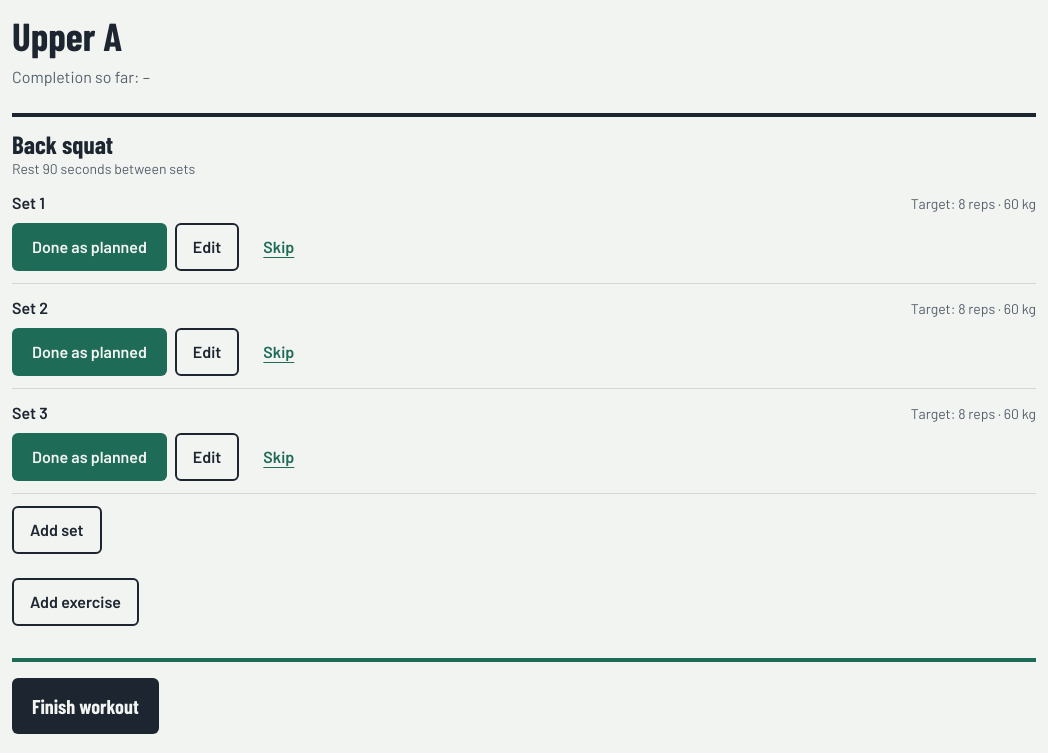
Test case: editing sets › keeps a planned exercise when Cancel is pressed on its Add set editor
What coordinates should you click on to do the following:
click the button "Add set"
I would click on:
 (57, 530)
Its box is [12,506,102,554].
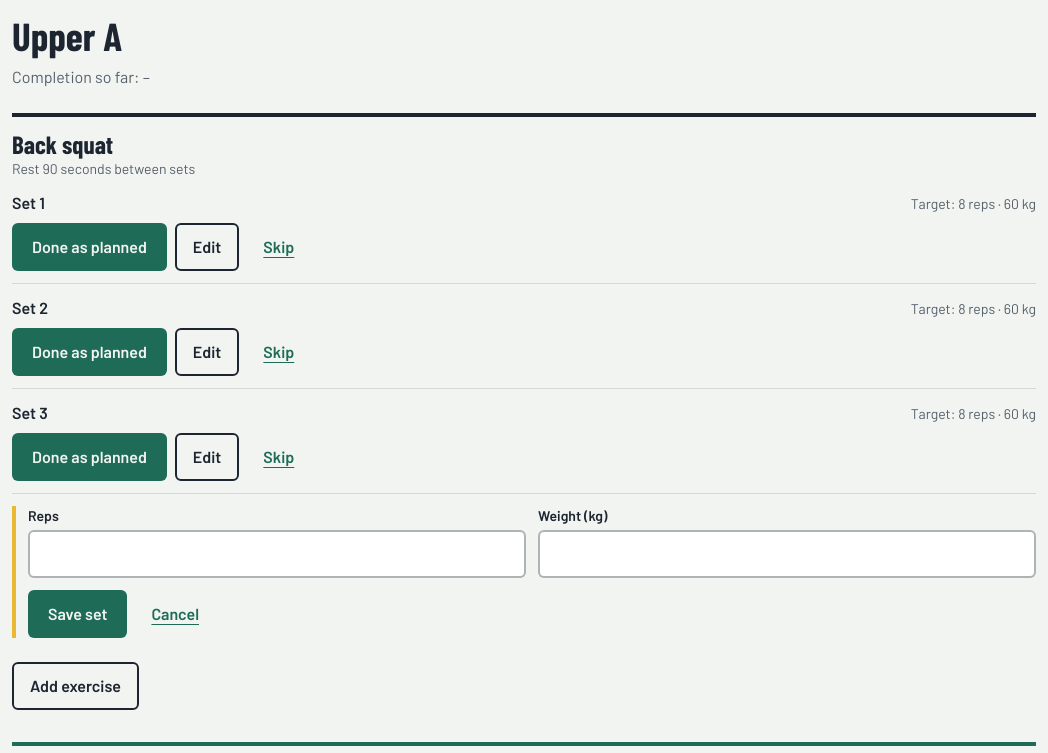
What coordinates should you click on to do the following:
click the button "Cancel"
I would click on:
 (175, 614)
Its box is [135,590,215,638].
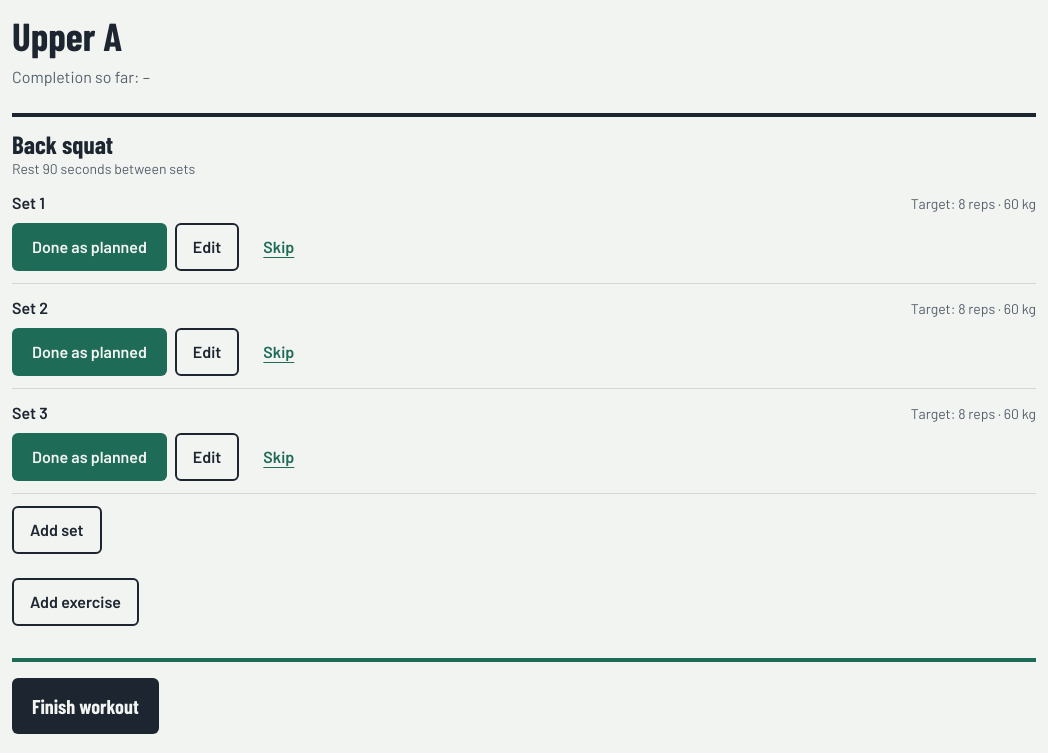
Expected: the heading "Back squat" is shown, [12,129,113,159]
Expected: the button "Add set" is shown, [12,506,102,554]
